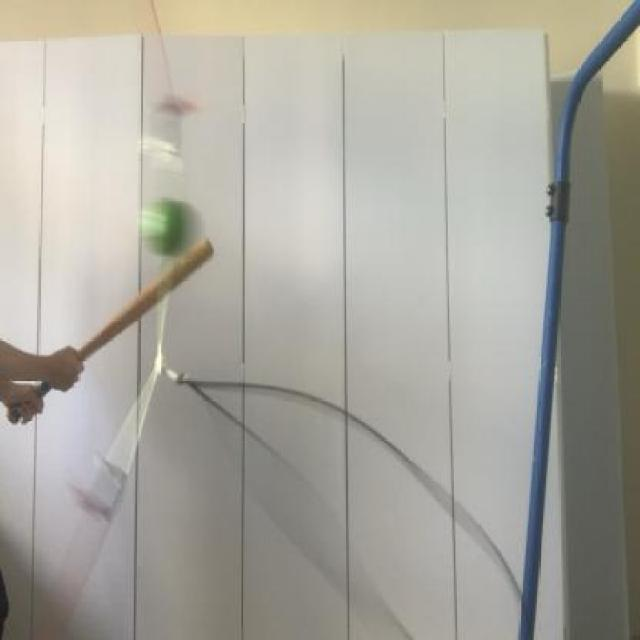baseball: (134, 194, 206, 263)
